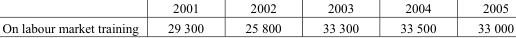table: (1, 0, 513, 34)
table column: (1, 0, 152, 34), (223, 0, 301, 34), (378, 0, 456, 34), (301, 0, 378, 34), (152, 0, 223, 34), (456, 0, 513, 34)
table column header: (1, 0, 513, 17)
table row: (1, 0, 513, 17), (1, 17, 513, 34)
